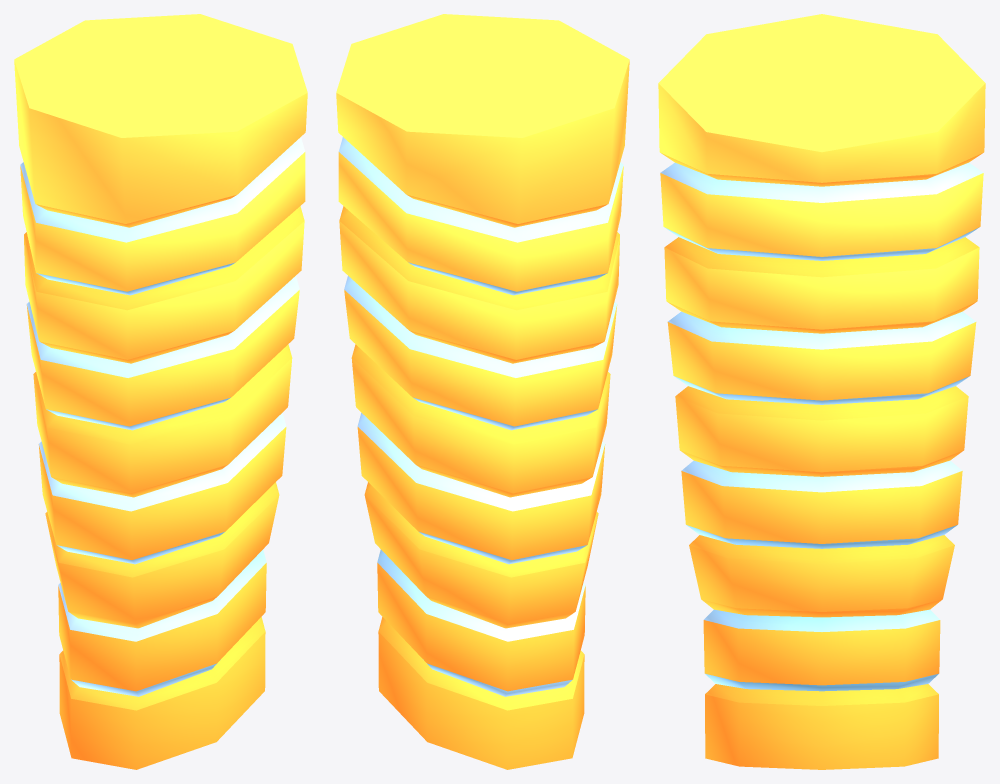
Rendered from gold_and_steel_grip_060.glb.
3 views of the same model, side by side, from view 1: azimuth 30°, elevation 25°; view 2: azimuth 150°, elevation 25°; view 3: azimuth 270°, elevation 25° (orthographic). The views are drawn at different scales.
Parts seen in each view (by area): view 1: gold_and_steel_grip_060; view 2: gold_and_steel_grip_060; view 3: gold_and_steel_grip_060.
Part boxes in pixels (x1=…): gold_and_steel_grip_060: x1=14, y1=14, x2=307, y2=769; gold_and_steel_grip_060: x1=336, y1=14, x2=629, y2=769; gold_and_steel_grip_060: x1=658, y1=14, x2=985, y2=769.
Size of the model in its own units: 1.51 by 3.61 by 1.51.
Materials: 1 (1 with a texture image).
